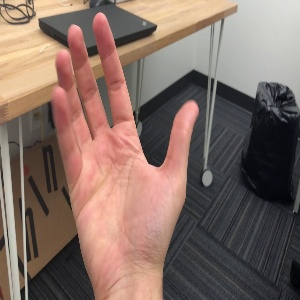hand: (51, 11, 200, 259)
